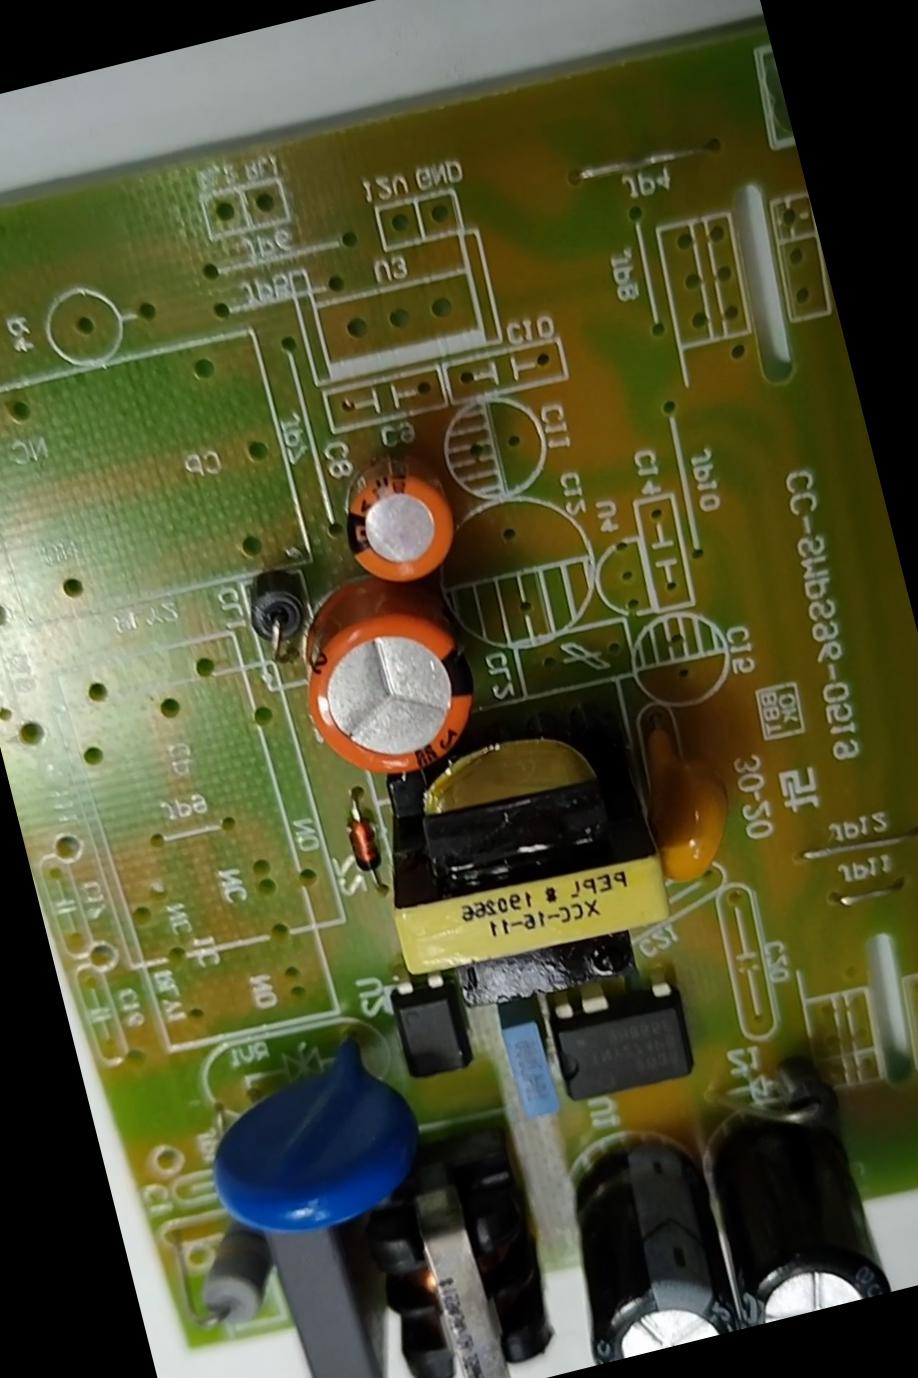Cap1: (270, 554, 503, 799)
Cap2: (312, 416, 491, 602)
Cap3: (663, 1060, 917, 1334)
Cap4: (538, 1120, 764, 1366)
MOSFET: (542, 965, 707, 1116)
Mov: (157, 1011, 452, 1264)
Resistor: (159, 1206, 309, 1354)
Transformer: (348, 664, 712, 1003), (339, 1103, 582, 1377)
